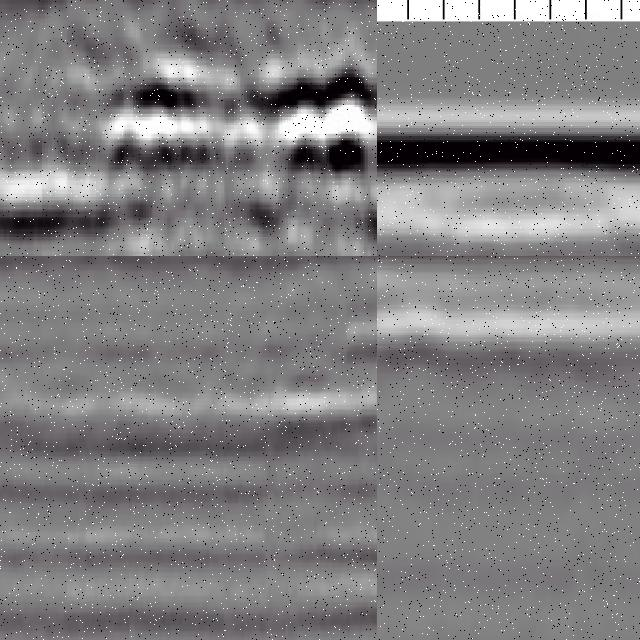loose: (101, 52, 378, 183)
